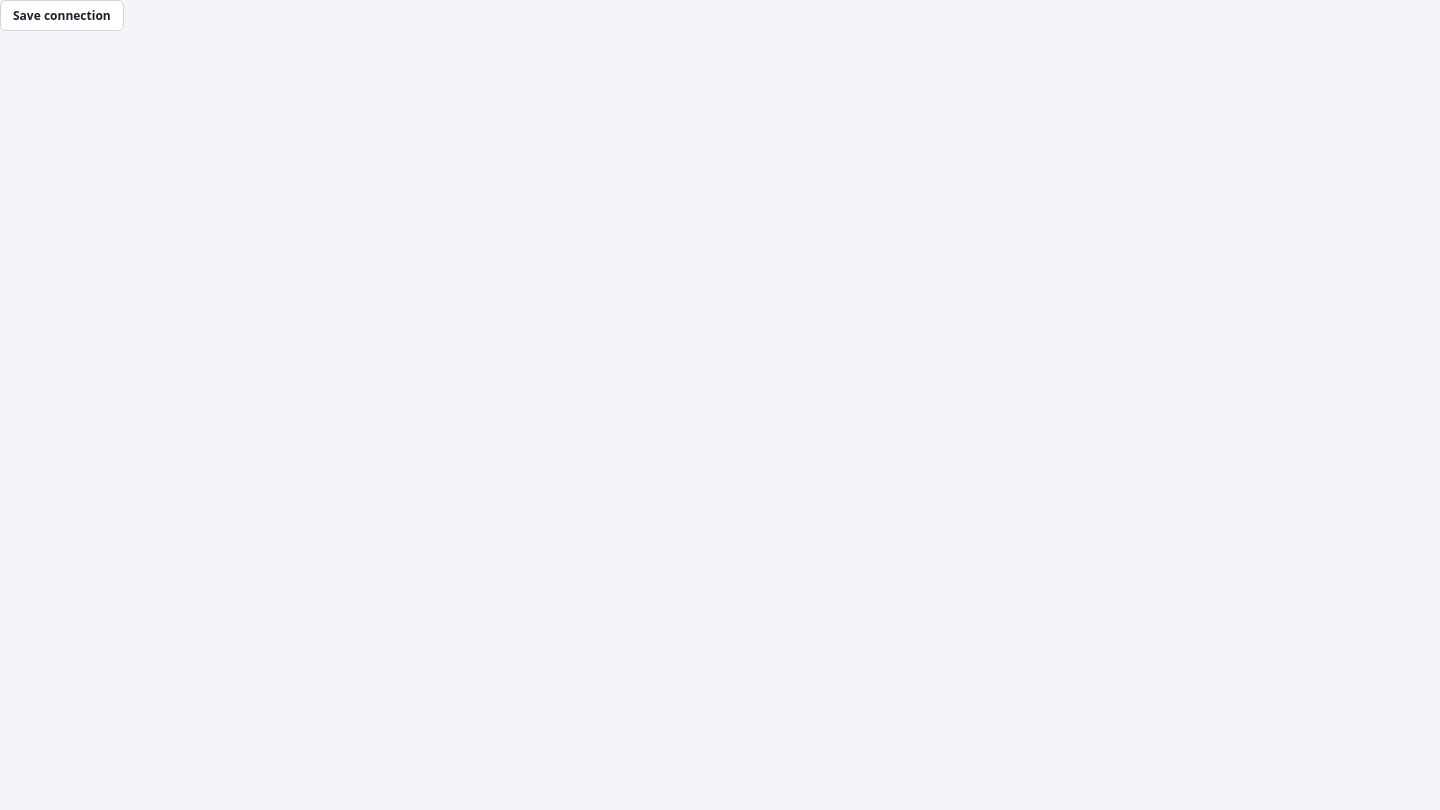
Test: Trace capture refuses to widen scope › does not add a destination member with 2 addresses to the catalog
Click the button "Save connection". click: (62, 16)
box: [0,0,124,31]
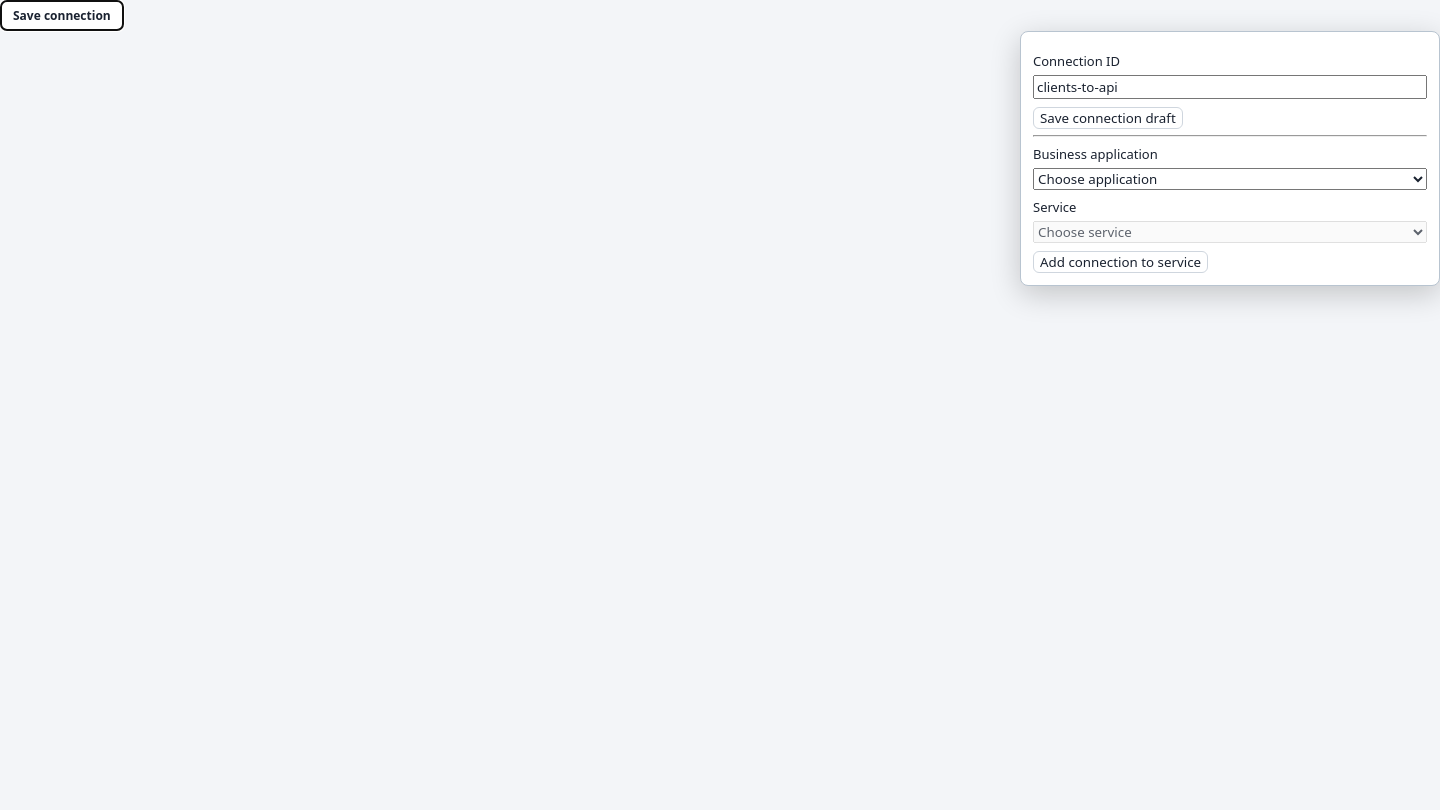
Select "Checkout" in the dropdown labelled "Business application". click: (1230, 179)
box: [1033,168,1427,190]
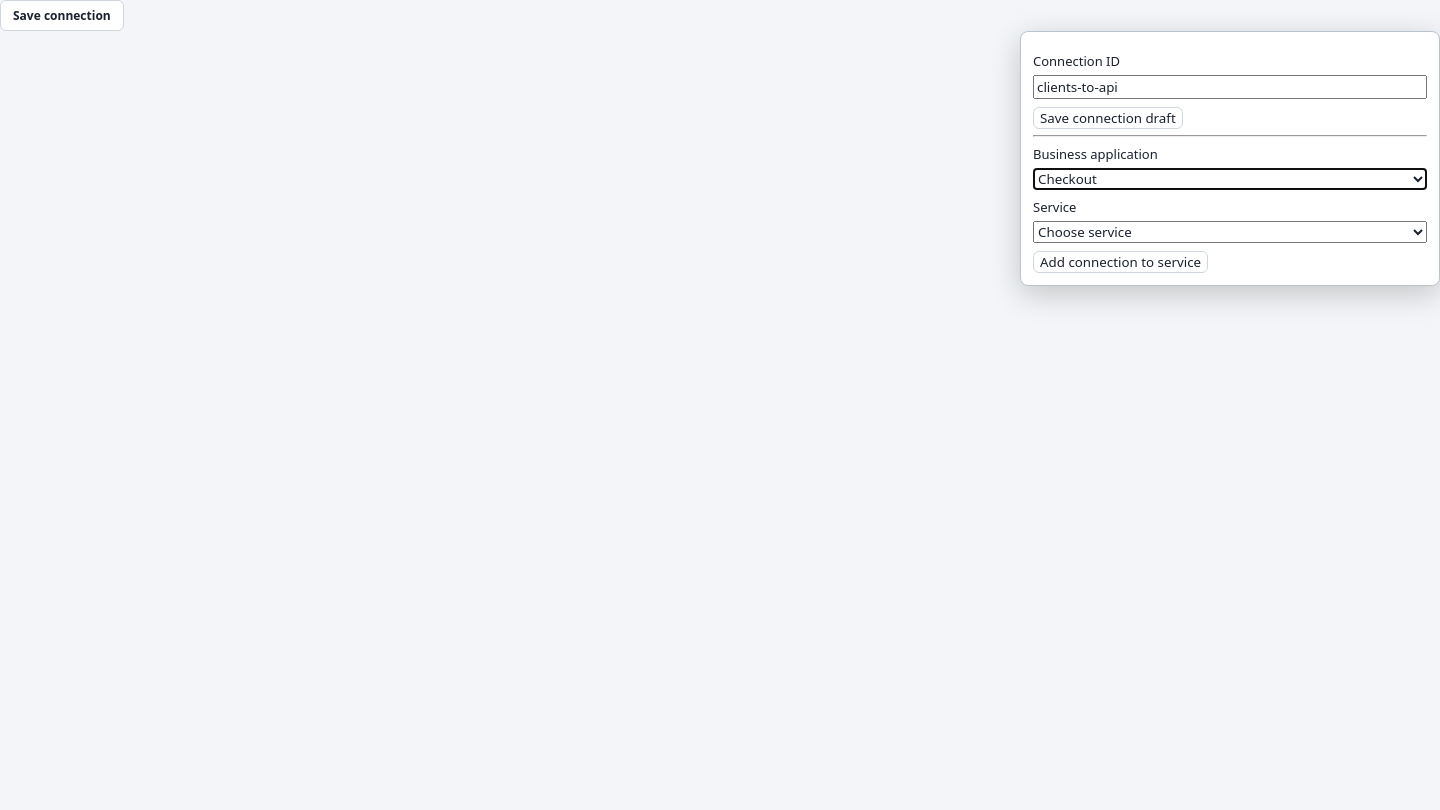
Select "Storefront" in the dropdown labelled "Service". click: (1230, 232)
box: [1033,221,1427,243]
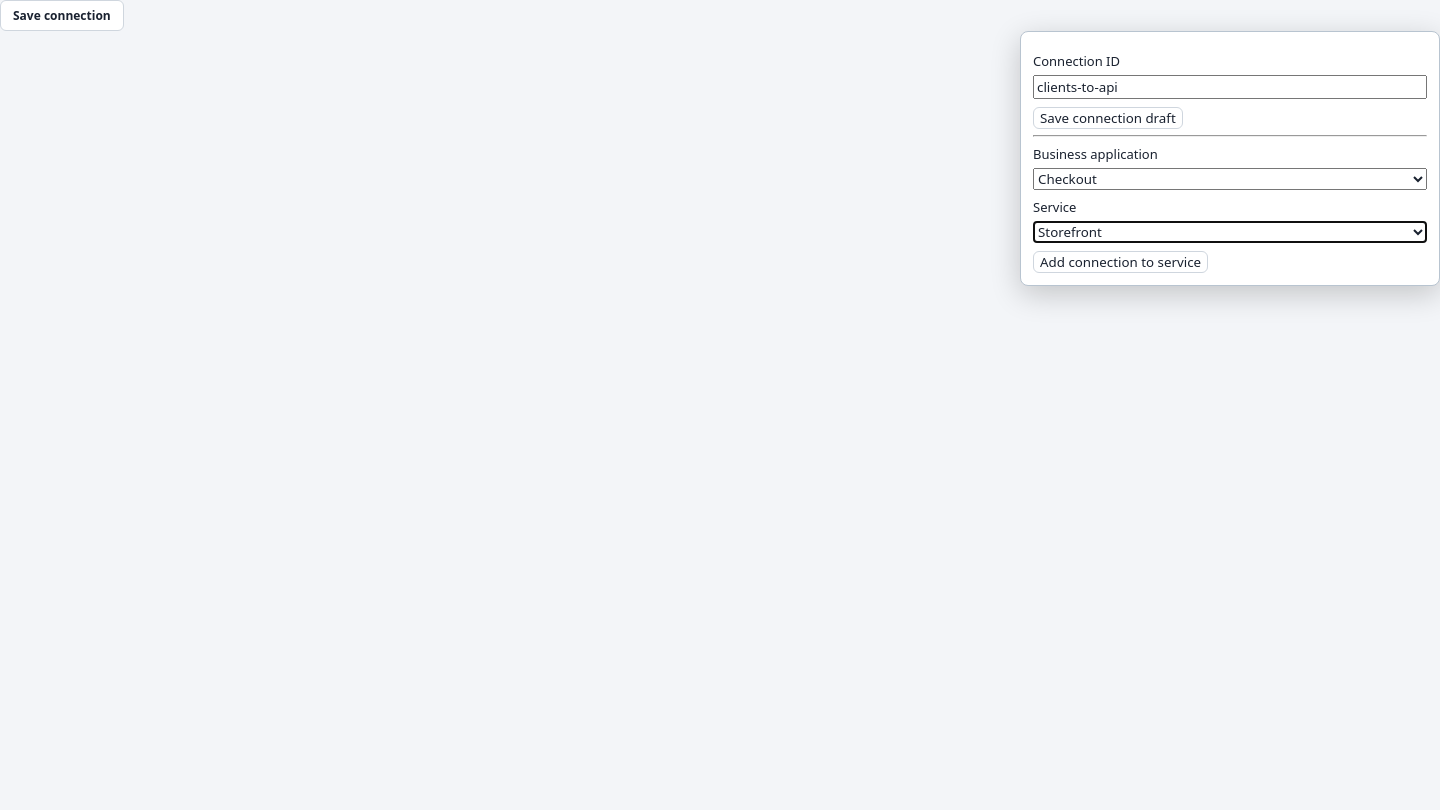
Click the button "Add connection to service". click: (1121, 262)
box: [1033,251,1208,273]
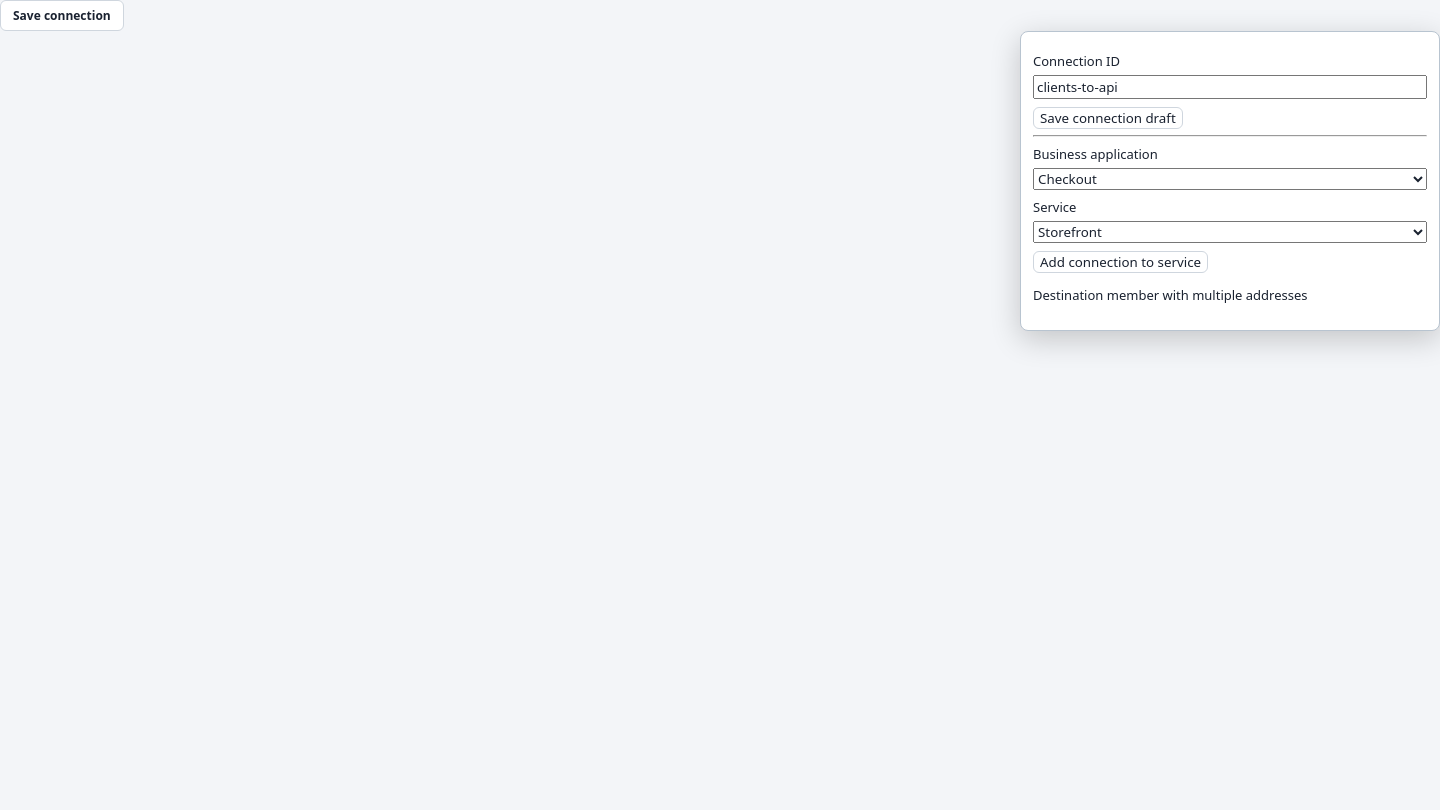
Check: the message shows "multiple addresses", box [1033,286,1308,304]
